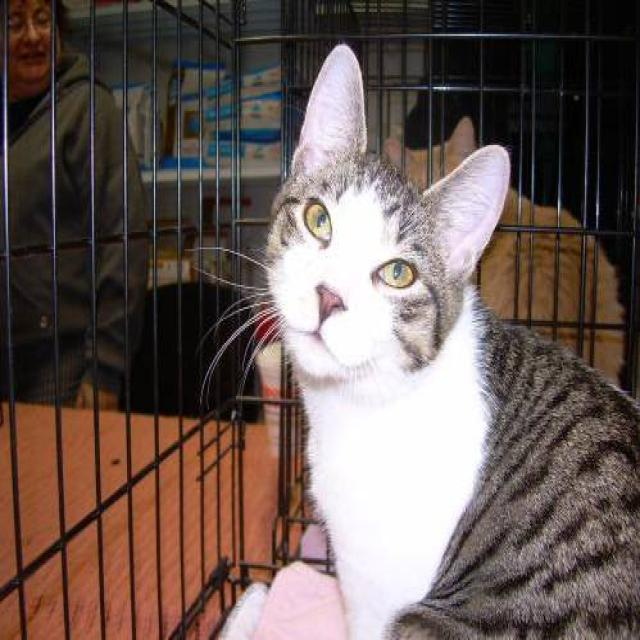Cat: (258, 44, 505, 408)
